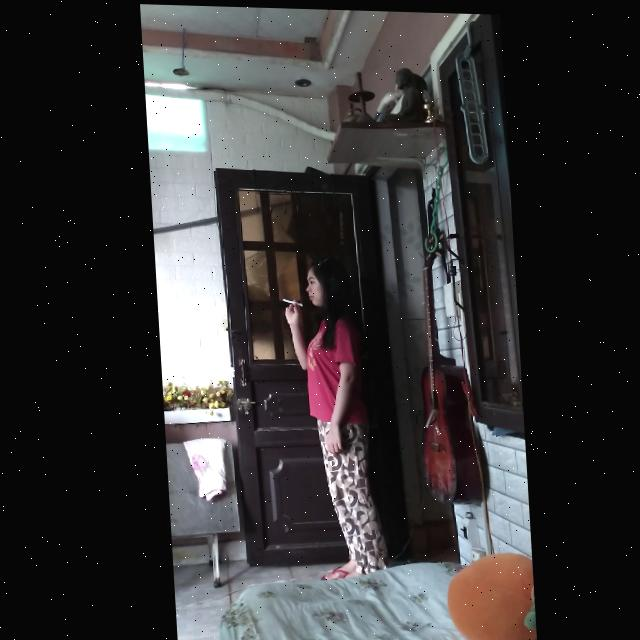cigarette: (279, 298, 299, 305)
